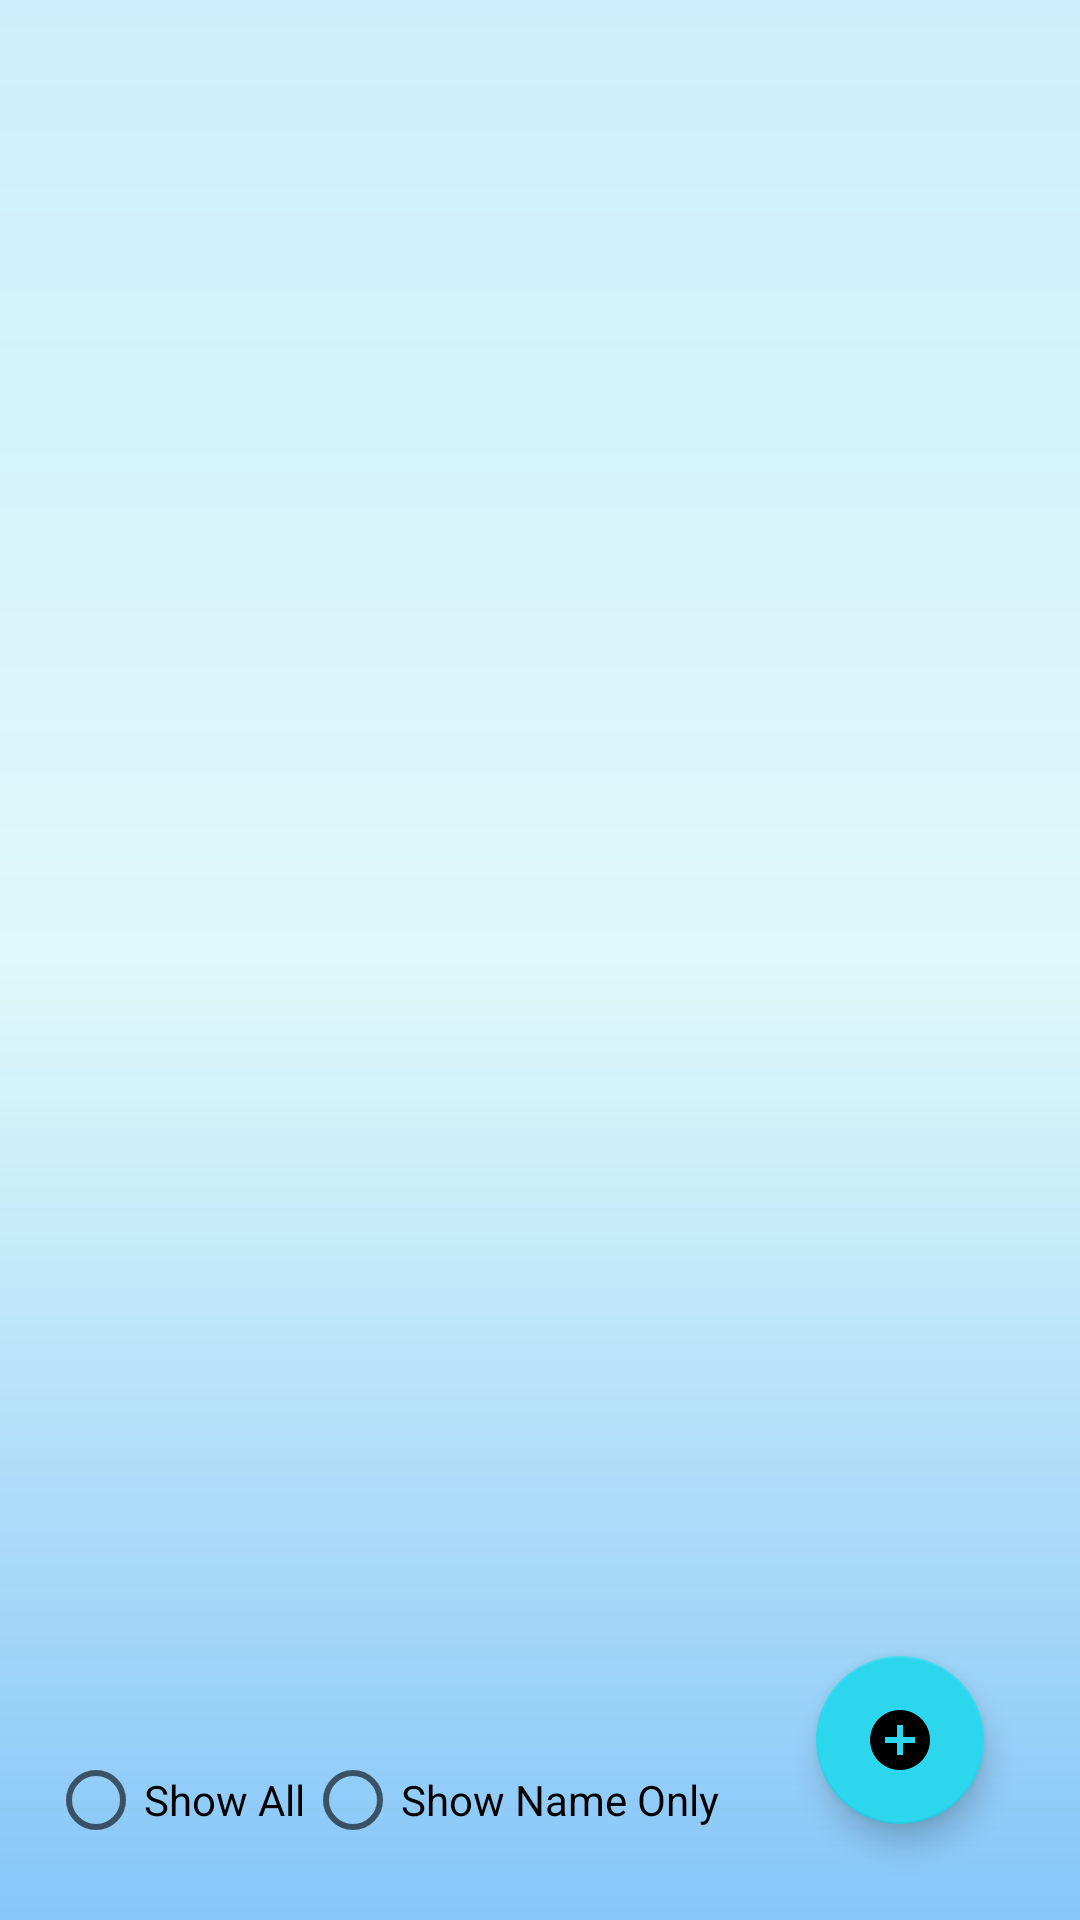

Icons on this 1080*1920 Android screen, each with the point to tap as (x,y):
add contact: (900,1740)
